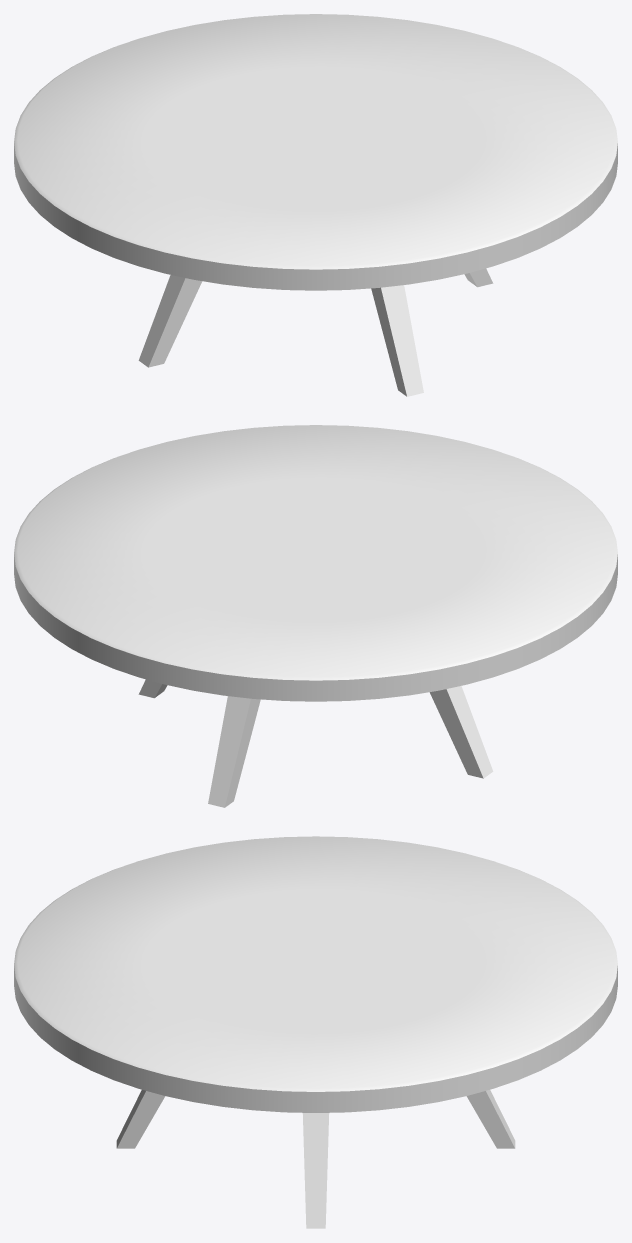
Rendered from table_modern.glb.
The picture shows the model from 3 angles, top to bottom: view 1: azimuth 30°, elevation 25°; view 2: azimuth 150°, elevation 25°; view 3: azimuth 270°, elevation 25°; orthographic projection.
Parts seen in each view (by area): view 1: Cylinder002, Object002, Object001; view 2: Cylinder002, Object004, Object001; view 3: Cylinder002, Object003, Object002, Object004.
Part boxes in pixels (<box>): Cylinder002: <box>14,14,617,290</box>; Object002: <box>371,285,423,396</box>; Object001: <box>138,275,201,367</box>; Cylinder002: <box>14,425,617,701</box>; Object004: <box>208,696,260,807</box>; Object001: <box>430,686,493,778</box>; Cylinder002: <box>14,836,617,1112</box>; Object003: <box>302,1113,329,1228</box>; Object002: <box>116,1090,165,1148</box>; Object004: <box>466,1090,515,1148</box>.
Size of the model in its own units: 0.1193 by 0.0397 by 0.1193.
1 material, 1 textured.
